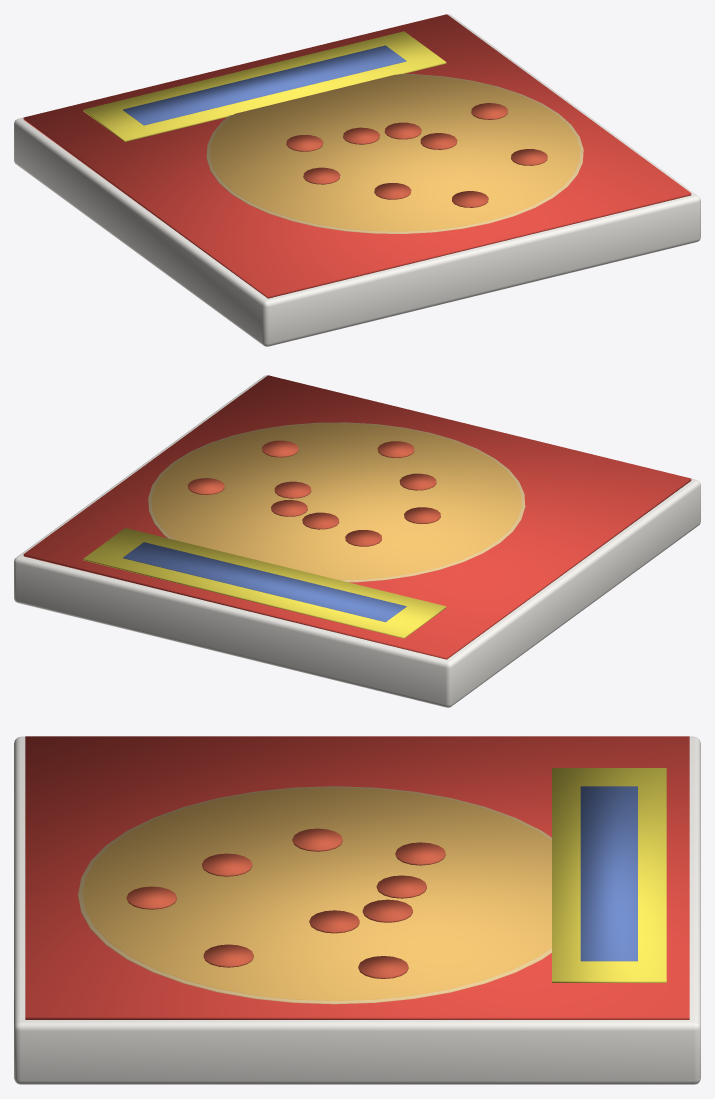
The model's file is SM_Grandiosa.glb.
3 views of the same model, one above another, from view 1: azimuth 30°, elevation 25°; view 2: azimuth 150°, elevation 25°; view 3: azimuth 270°, elevation 25° (orthographic). The views are drawn at different scales.
Visible parts, largest first — view 1: SM_Grandiosa; view 2: SM_Grandiosa; view 3: SM_Grandiosa.
Part boxes in pixels (x1,y1,x2,y2): SM_Grandiosa: (14, 14, 700, 346); SM_Grandiosa: (14, 375, 700, 707); SM_Grandiosa: (14, 736, 700, 1084).
Size of the model in its own units: 0.3 by 0.0334 by 0.3.
